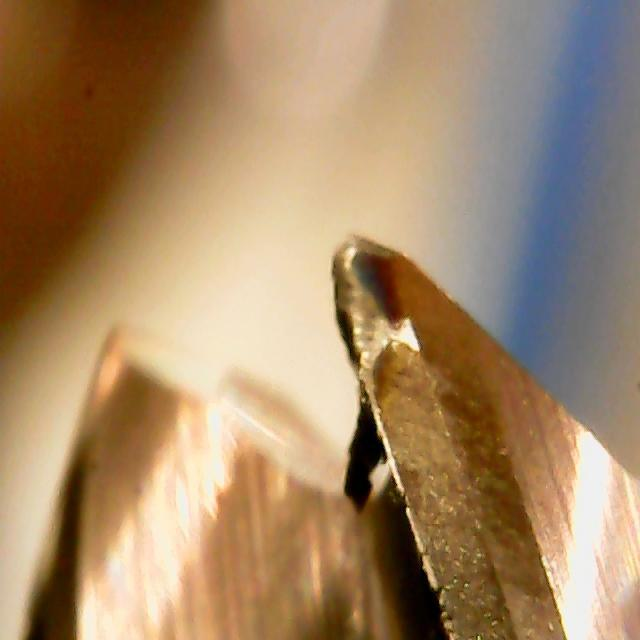Tool-wear-class-1: (296, 225, 455, 552)
